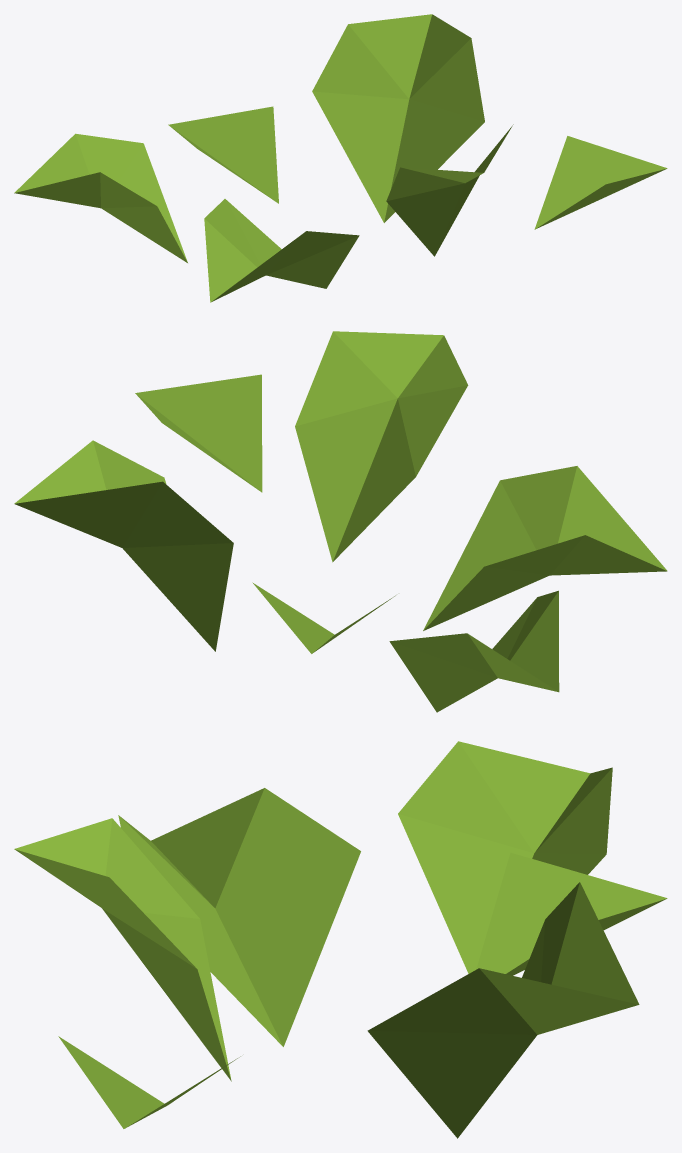
File: SM_Water_Hyacinth_Single_Mature_B.fbx
3 renders of one model, top to bottom at view 1: azimuth 30°, elevation 25°; view 2: azimuth 150°, elevation 25°; view 3: azimuth 270°, elevation 25°, orthographic. The views are drawn at different scales.
Visible parts, largest first — view 1: water-hyacinth-single-mature-b; view 2: water-hyacinth-single-mature-b; view 3: water-hyacinth-single-mature-b.
Part boxes in pixels (x1=…): water-hyacinth-single-mature-b: x1=14, y1=14, x2=667, y2=302; water-hyacinth-single-mature-b: x1=14, y1=331, x2=667, y2=712; water-hyacinth-single-mature-b: x1=14, y1=741, x2=667, y2=1138.
Bounding box in the file's own units: 0.4432 × 0.1502 × 0.3253.
